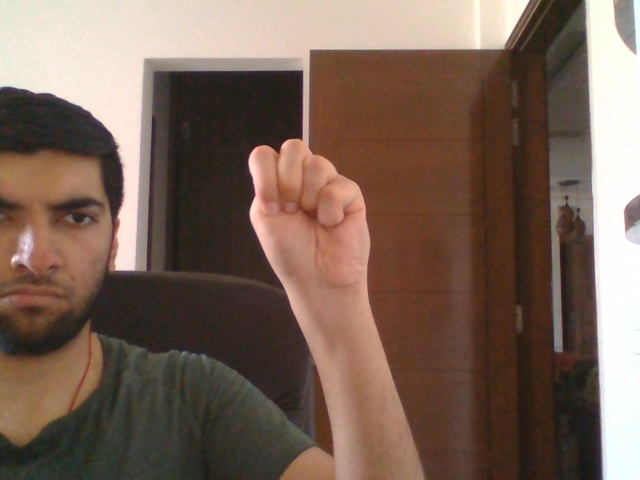LetterM: (248, 139, 371, 290)
